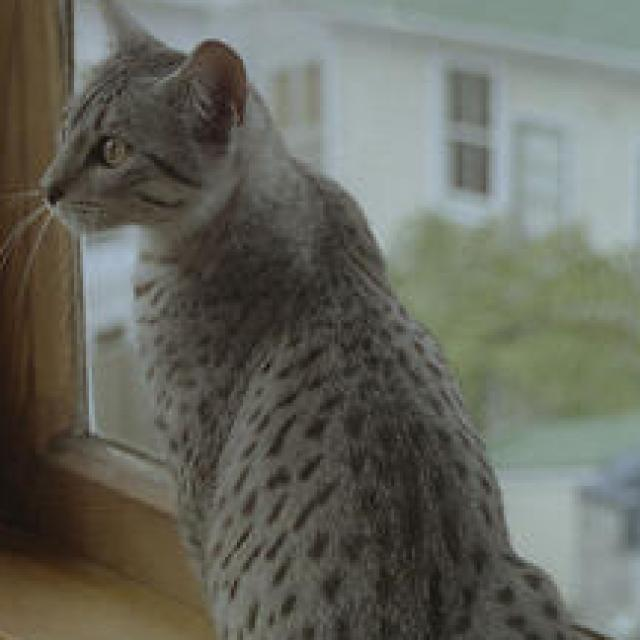Egyptian Mau: (32, 0, 578, 640)
